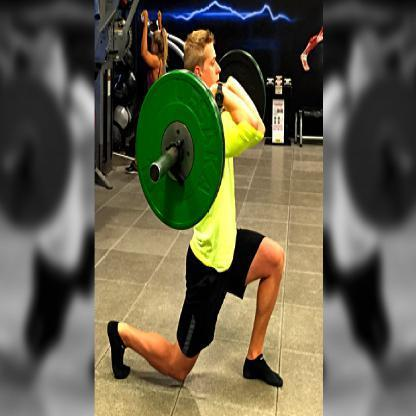barbell: (136, 70, 225, 231)
